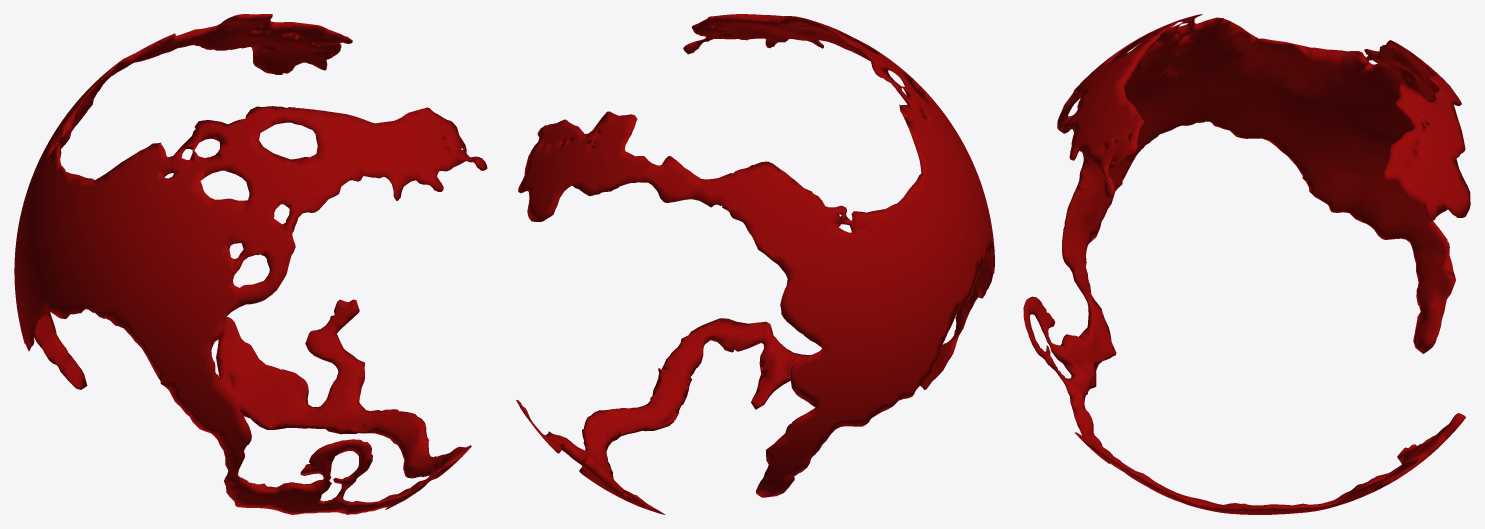
File: planets_present_intro_water.glb
3 renders of one model, left to right at view 1: azimuth 30°, elevation 25°; view 2: azimuth 150°, elevation 25°; view 3: azimuth 270°, elevation 25°, orthographic. The views are drawn at different scales.
Parts seen in each view (by area): view 1: planets_present_intro_water; view 2: planets_present_intro_water; view 3: planets_present_intro_water.
Part boxes in pixels (x1,y1,x2,y2): planets_present_intro_water: (14,14,487,514); planets_present_intro_water: (516,14,994,514); planets_present_intro_water: (1023,14,1470,514).
Bounding box in the file's own units: 36.71 × 39.27 × 38.51.
